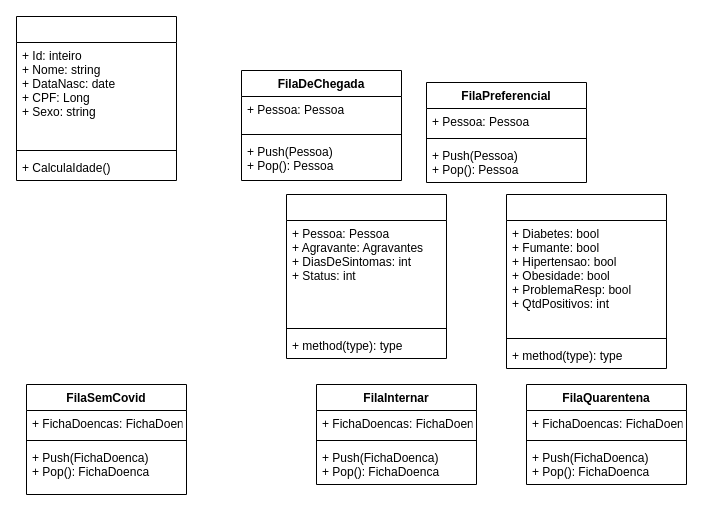
This 719x511 diagram has some shape labels left out. Each missing label, with the box of its shape:
Agravantes: (506, 194, 666, 368)
FichaDoencas: (286, 194, 446, 358)
Pessoa: (16, 16, 176, 180)
